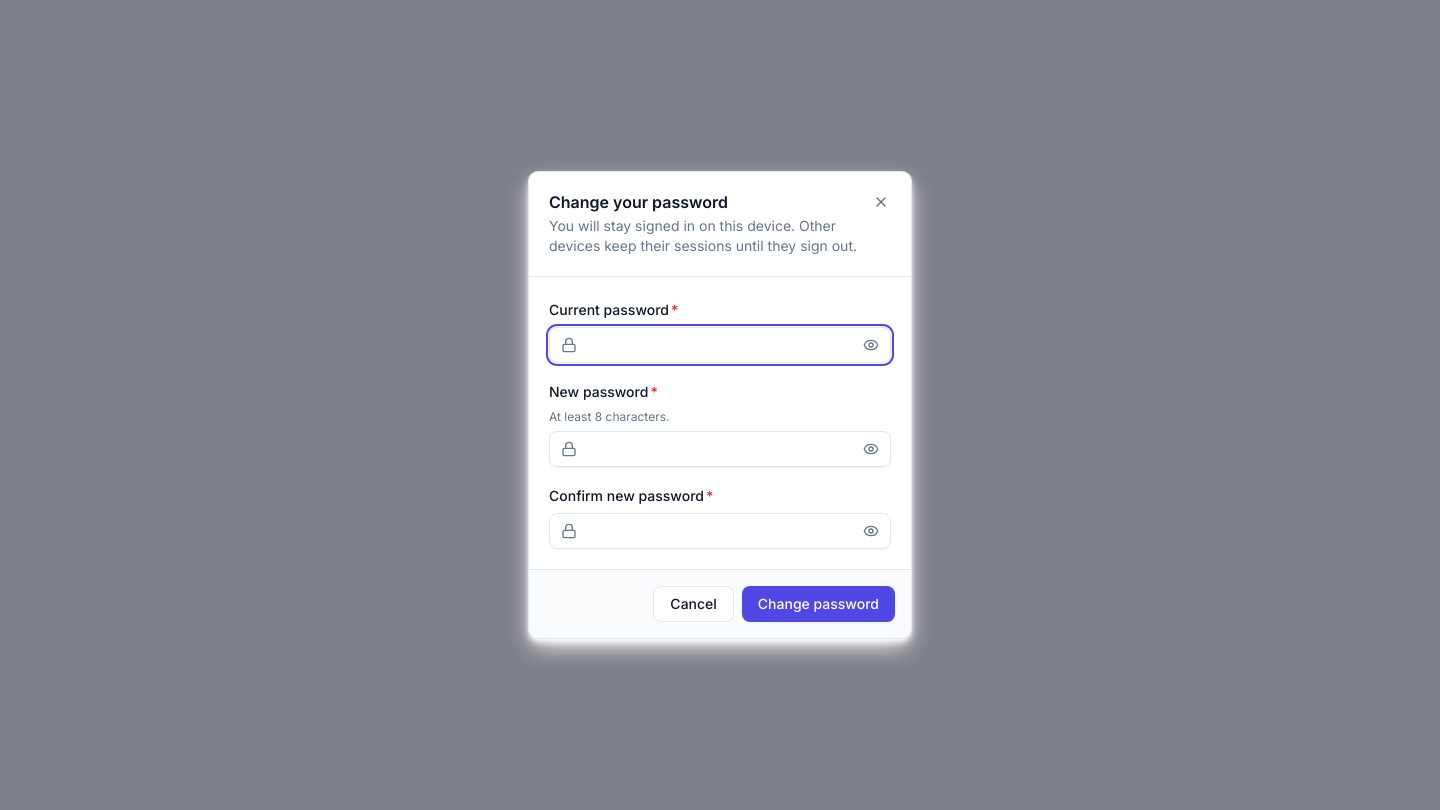
Test case: ChangePasswordDialog › puts a wrong current password on that field rather than in a banner
Type "wrong-one-entirely" into the password field labelled "Current password*" at (720, 345), box [549,327,891,363]
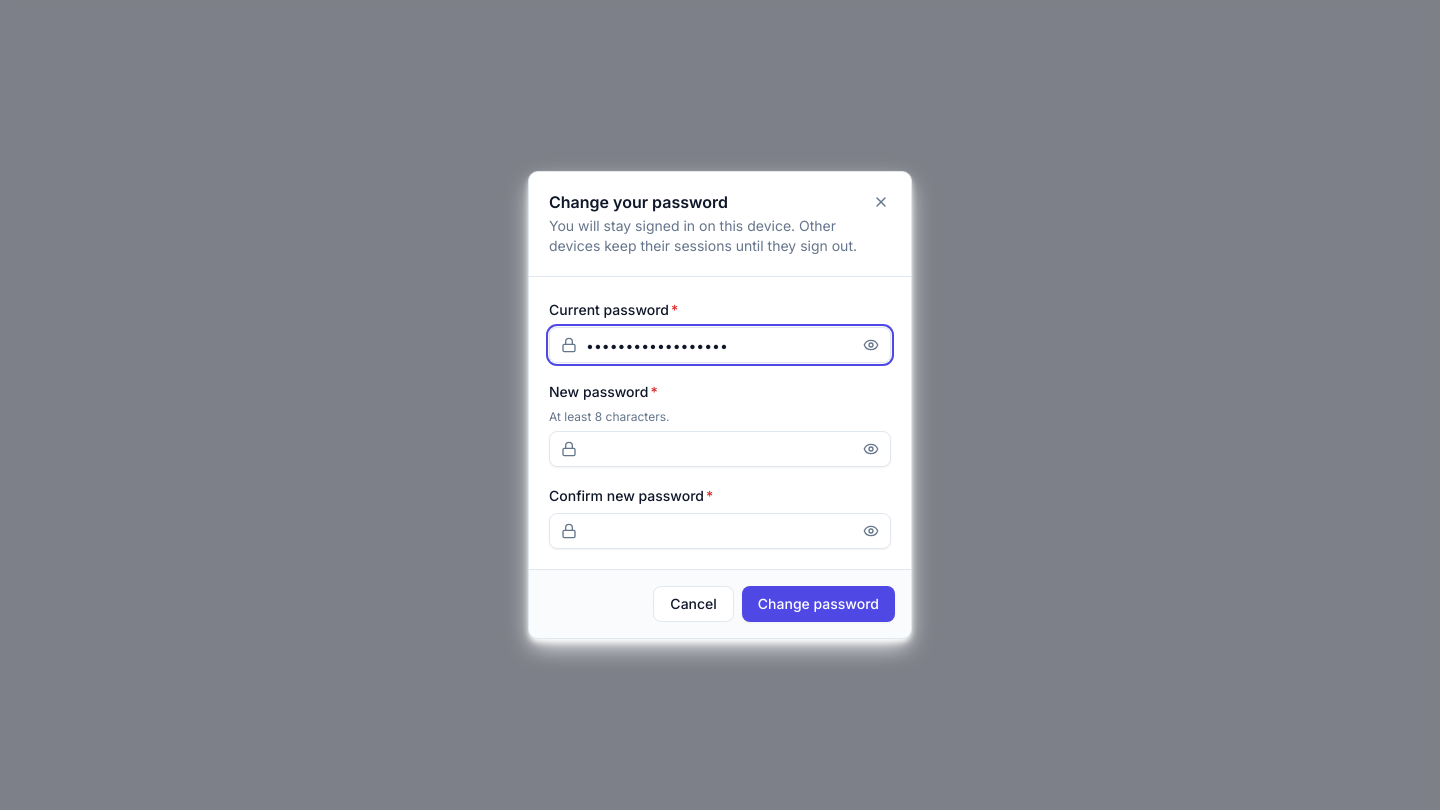
Type "a-longer-phrase-2026" into the password field labelled "New password*" at (720, 449), box [549,431,891,467]
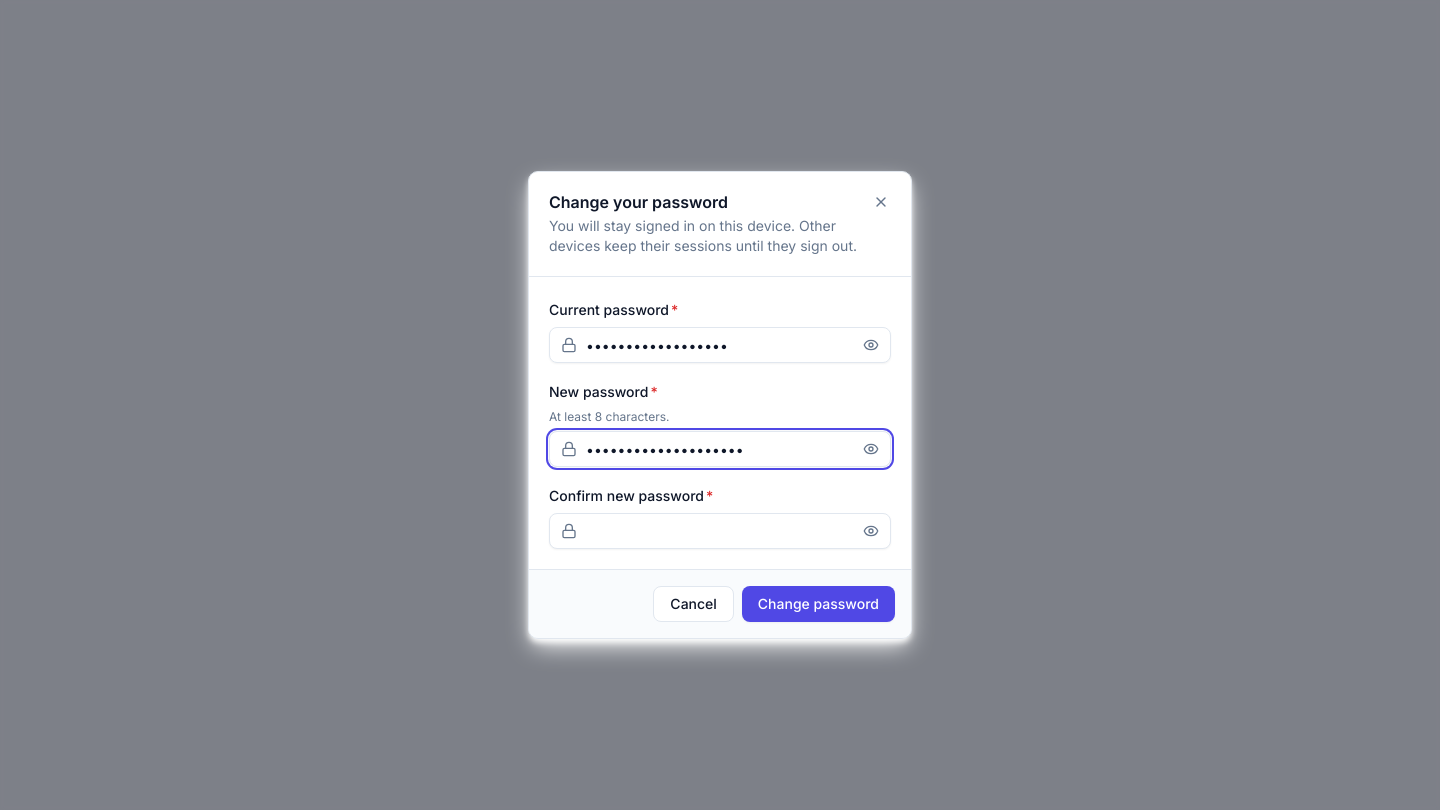
Type "a-longer-phrase-2026" into the password field labelled "Confirm new password*" at (720, 531), box [549,513,891,549]
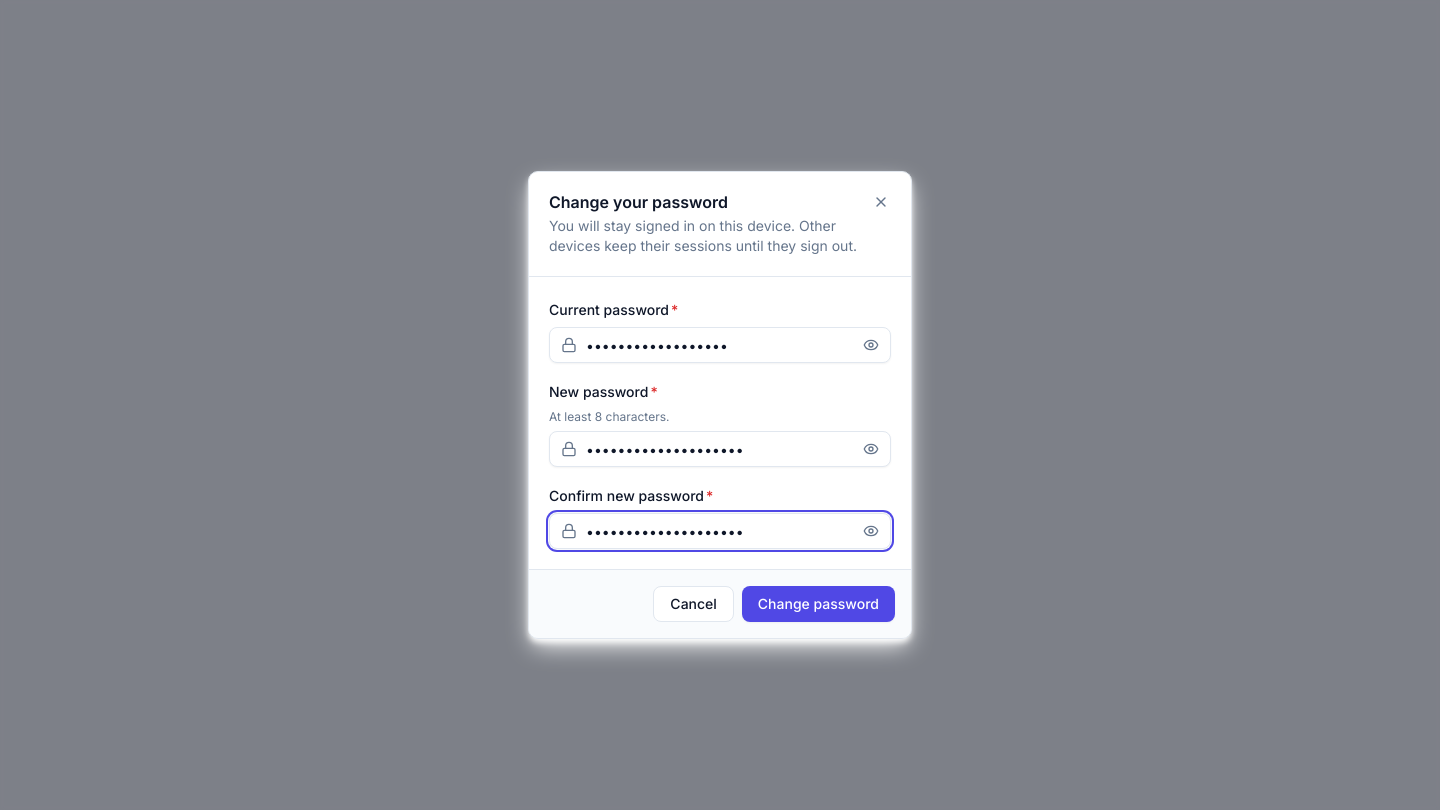
Click the button "Change password" at (818, 604), box [742,586,895,622]
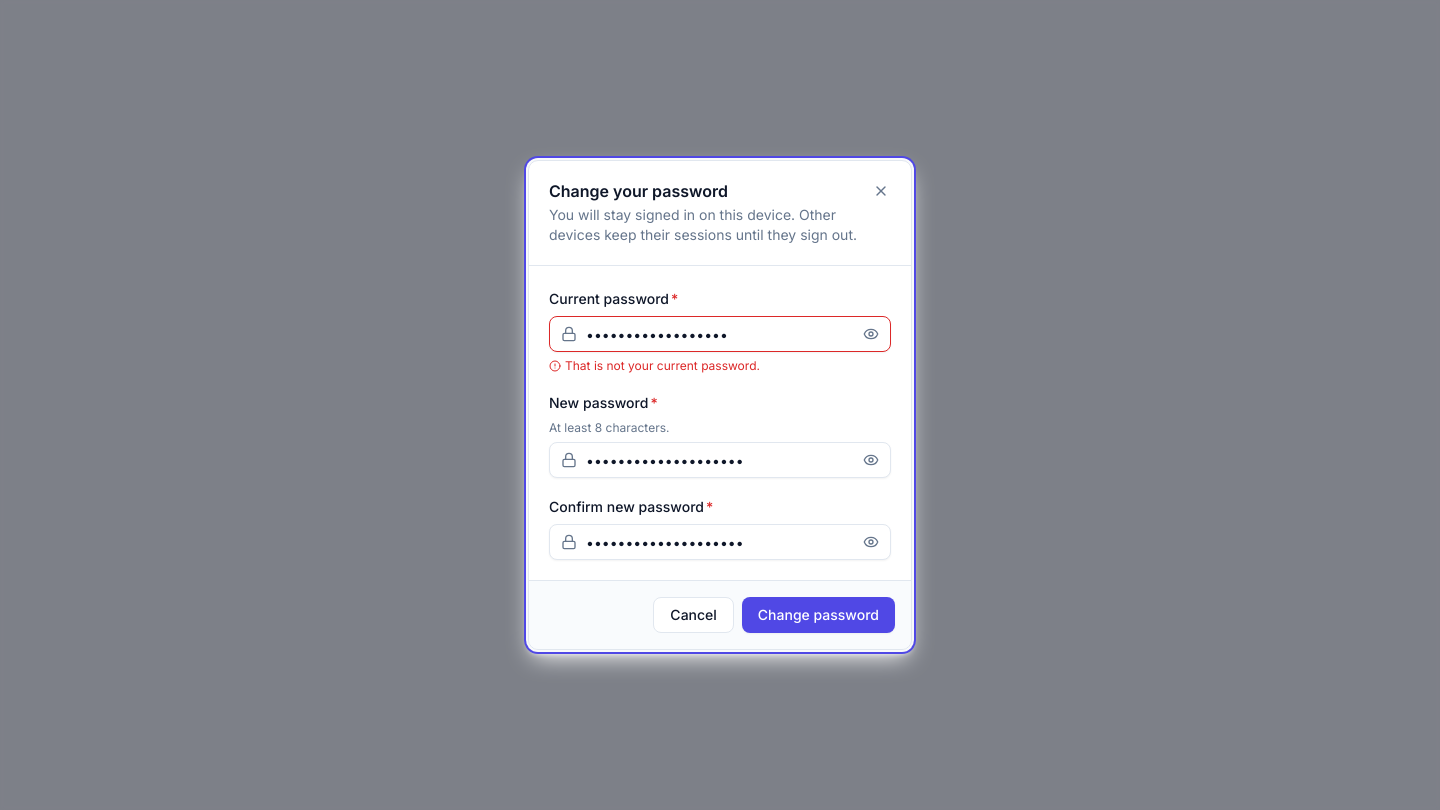
expect the text "That is not your current password." is shown: met, box [549,358,760,373]
